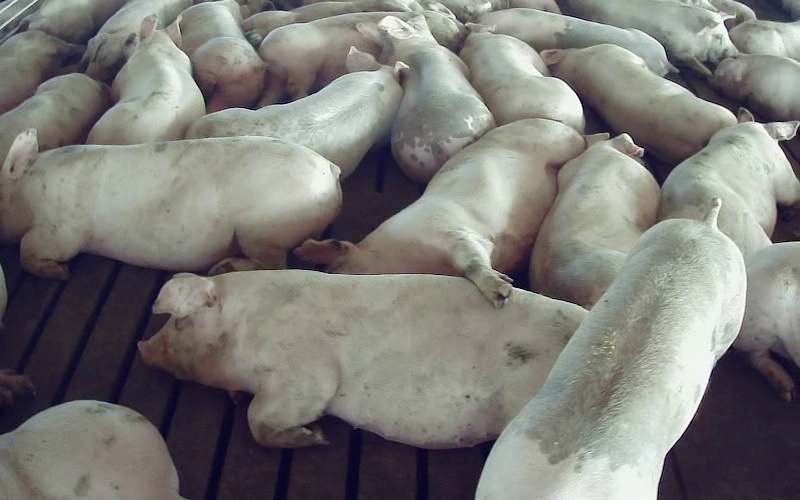pig: (477, 201, 744, 499), (139, 270, 585, 448), (295, 119, 585, 306), (0, 129, 341, 278), (187, 48, 403, 178), (541, 44, 736, 163), (529, 133, 659, 308), (357, 15, 494, 181), (659, 108, 799, 255), (87, 15, 204, 144), (258, 12, 414, 106), (460, 23, 584, 133), (477, 8, 674, 75), (0, 73, 109, 168), (709, 54, 799, 120)
